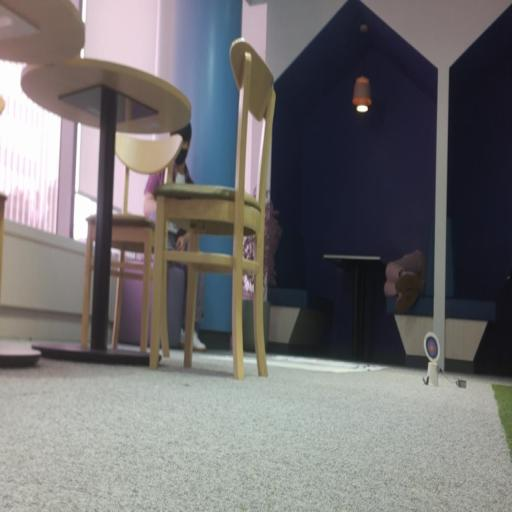target: (424, 332, 440, 362)
